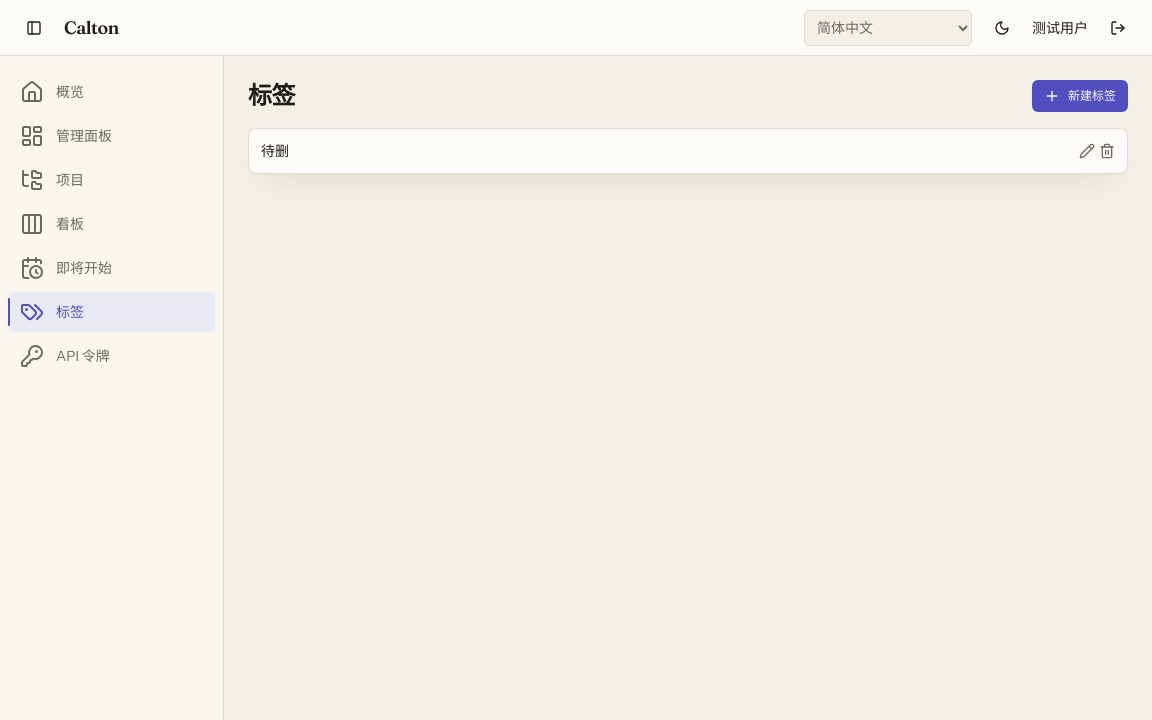
Test: 删除标签 › 二次确认后才发 DELETE，且说明任务不会被删
Click the button with test id "^label-delete-" at [1107, 151], box [1099, 143, 1115, 159]
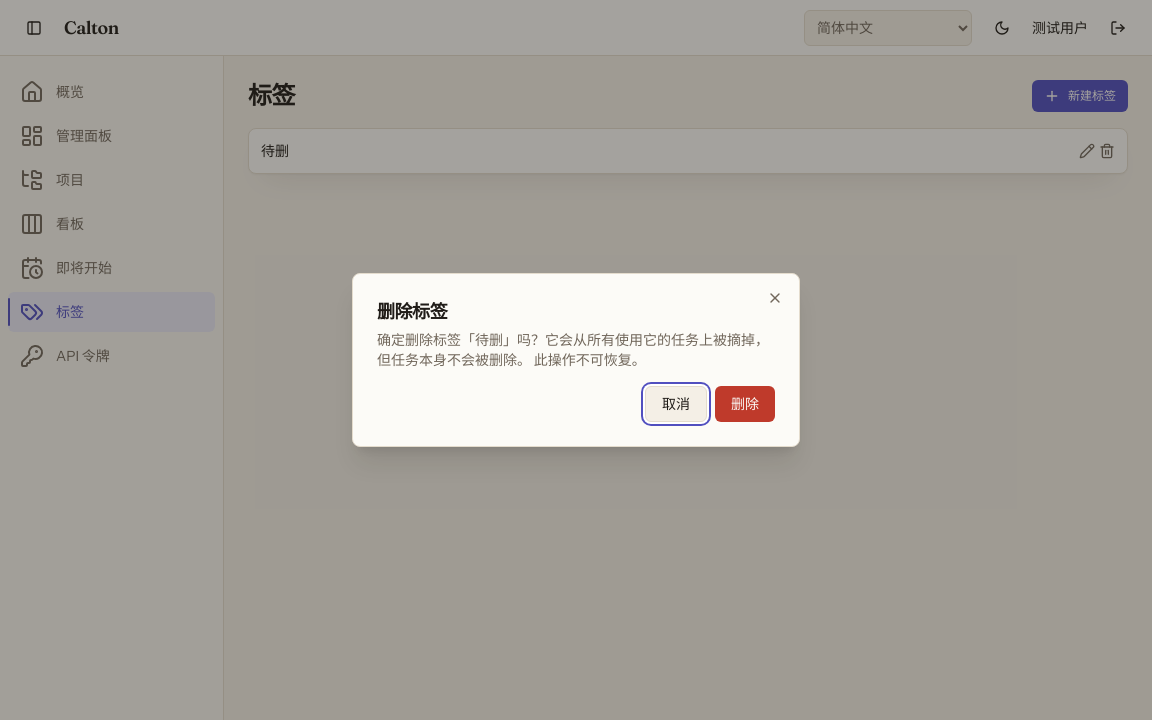
Expected: the dialog with test id "label-delete-dialog" shows "任务本身不会被删除", [377, 331, 769, 369]
Click the button with test id "label-delete-confirm" at [745, 404], box [715, 386, 775, 422]
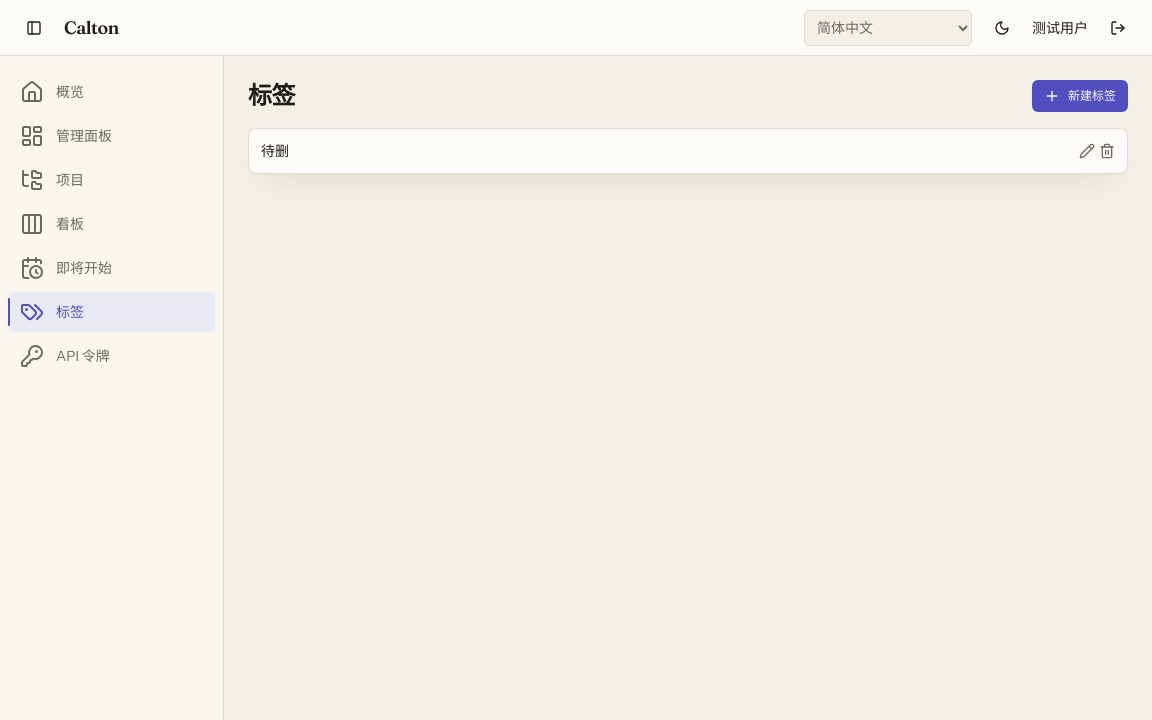
Expected: the dialog is gone
